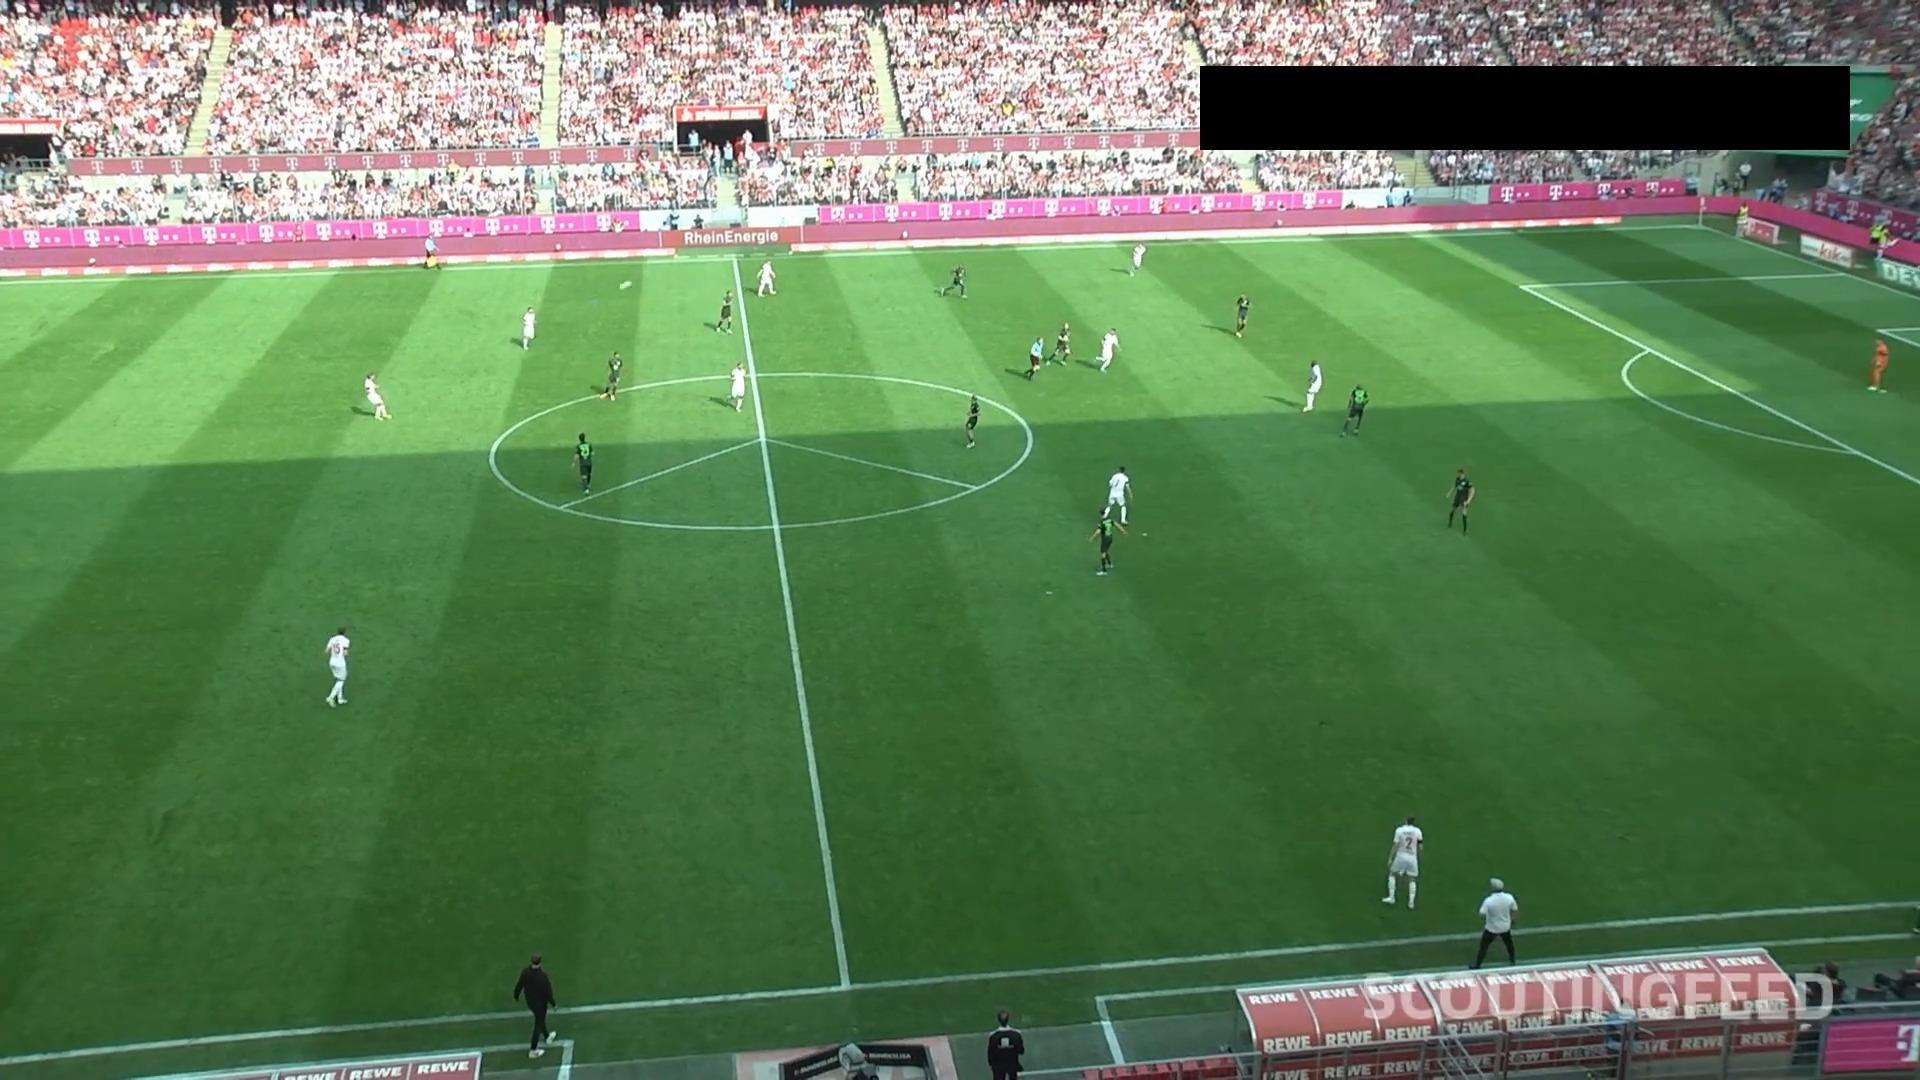ball: (617, 278, 633, 291)
